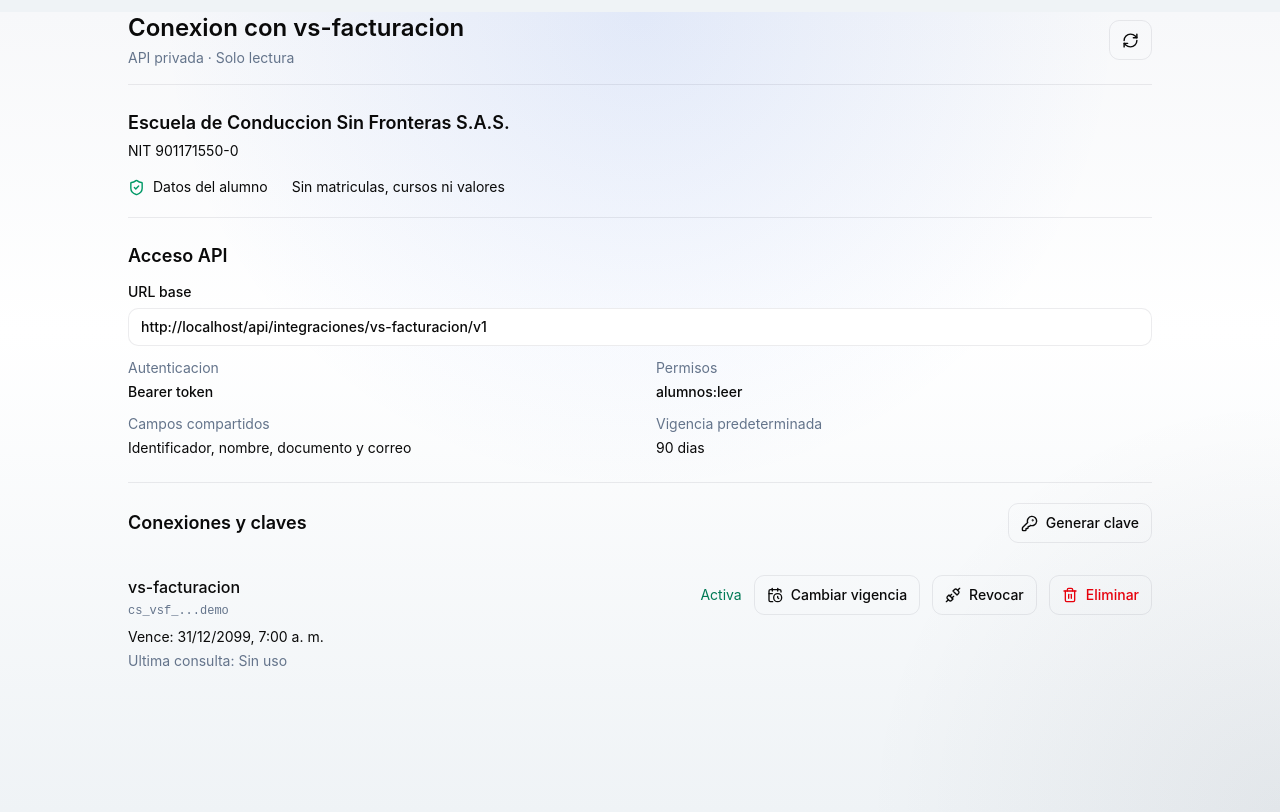
Test: conexion de facturacion › cancelar eliminacion no envia cambios y confirmar quita la conexion
This screenshot has width=1280, height=812.
Click the button with aria-label "Eliminar conexion vs-facturacion" at {"x": 1100, "y": 595}, box [1049,575,1152,615]
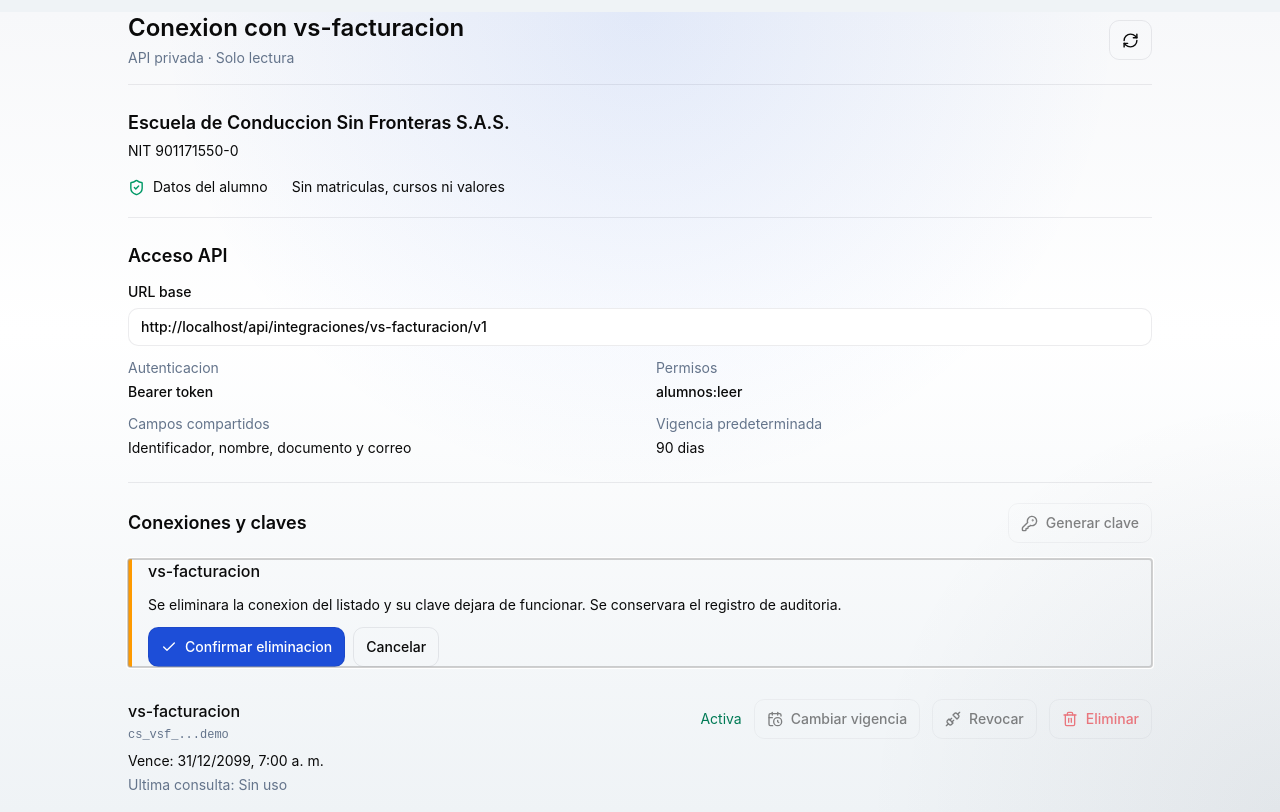
Now the text "Se conservara el registro de auditoria" is shown, box [148,596,842,613]
Click the button "Cancelar" at {"x": 396, "y": 647}, box [353,627,439,667]
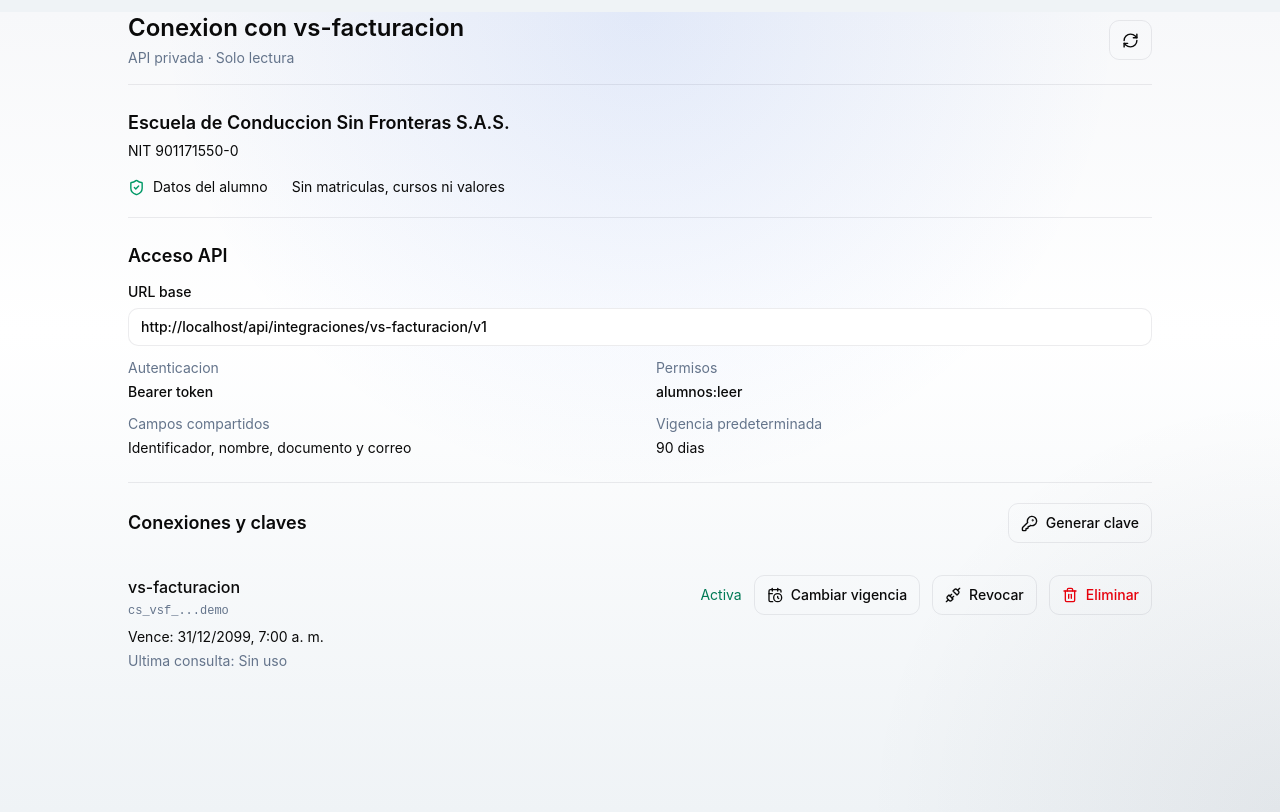
Click the button with aria-label "Eliminar conexion vs-facturacion" at {"x": 1100, "y": 595}, box [1049,575,1152,615]
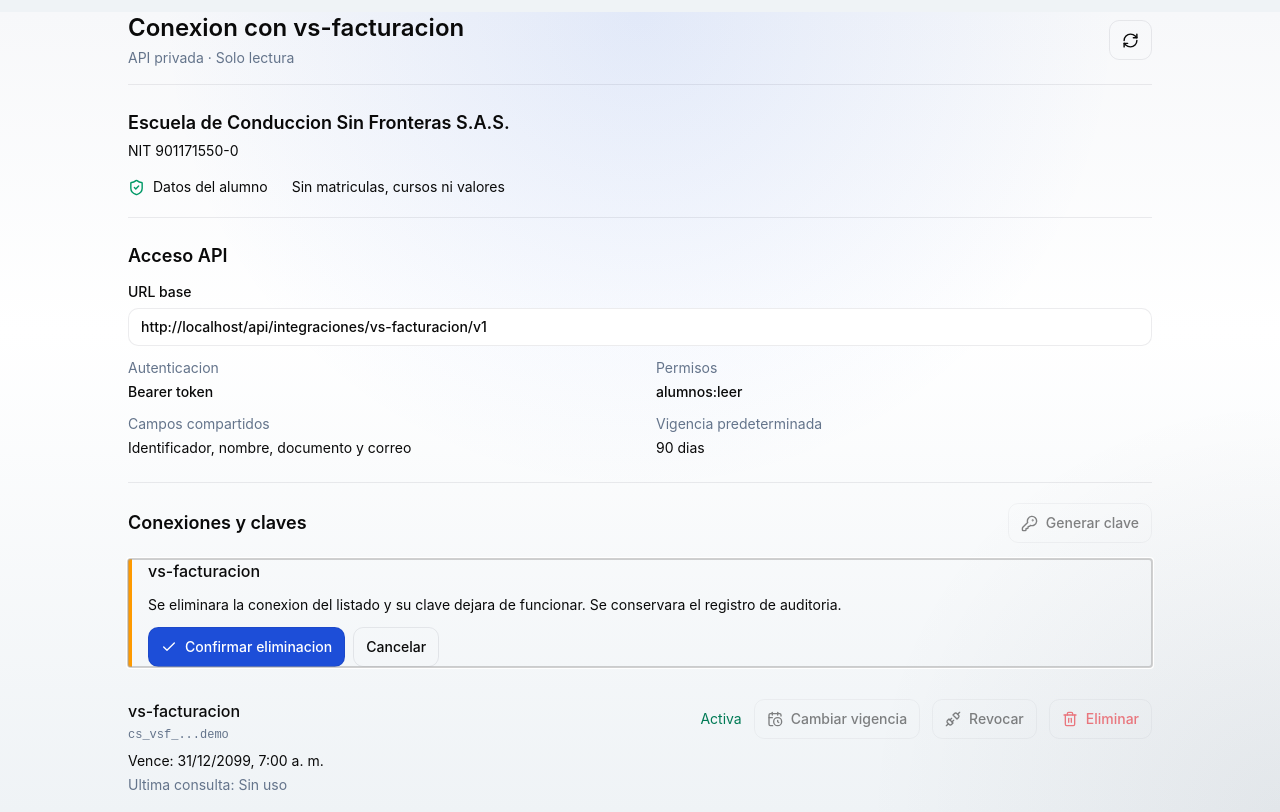
Click the button "Confirmar eliminacion" at {"x": 247, "y": 647}, box [148,627,345,667]
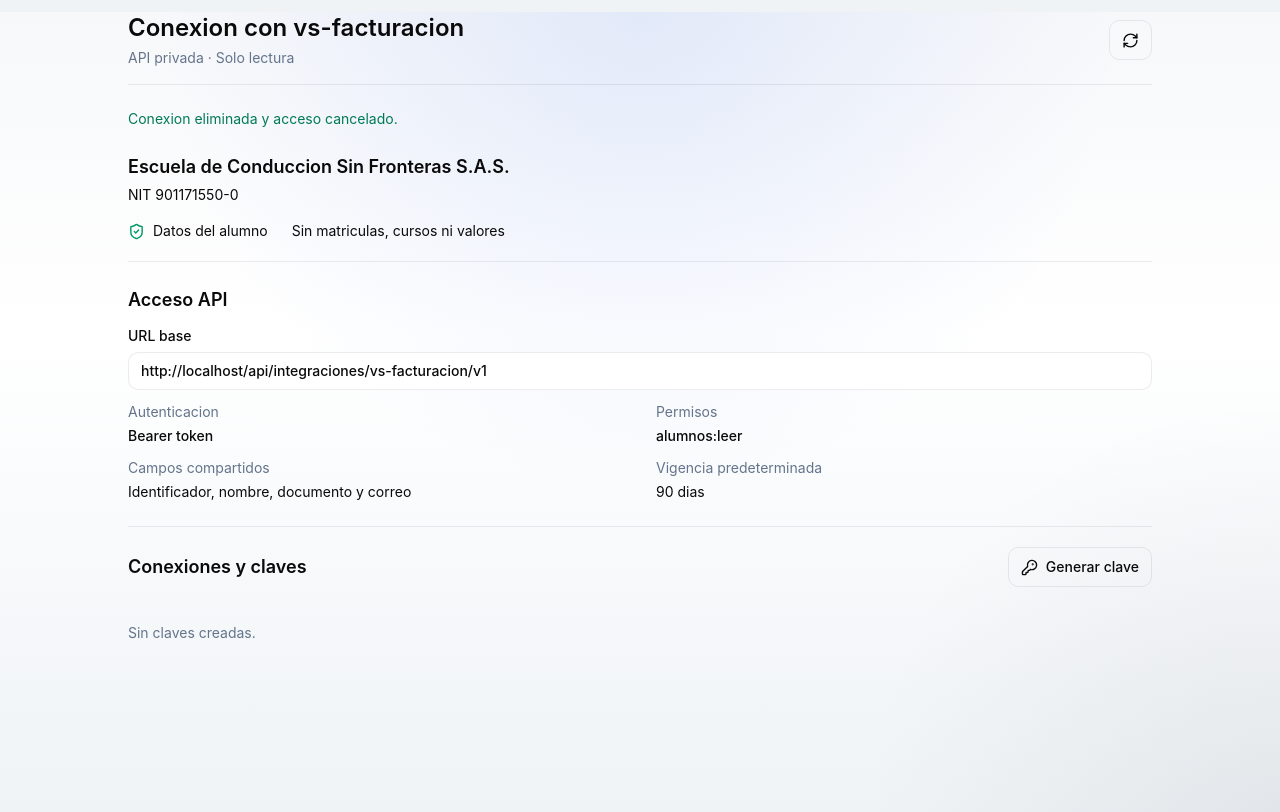
Now the text "Sin claves creadas." is shown, box [128,624,256,641]
